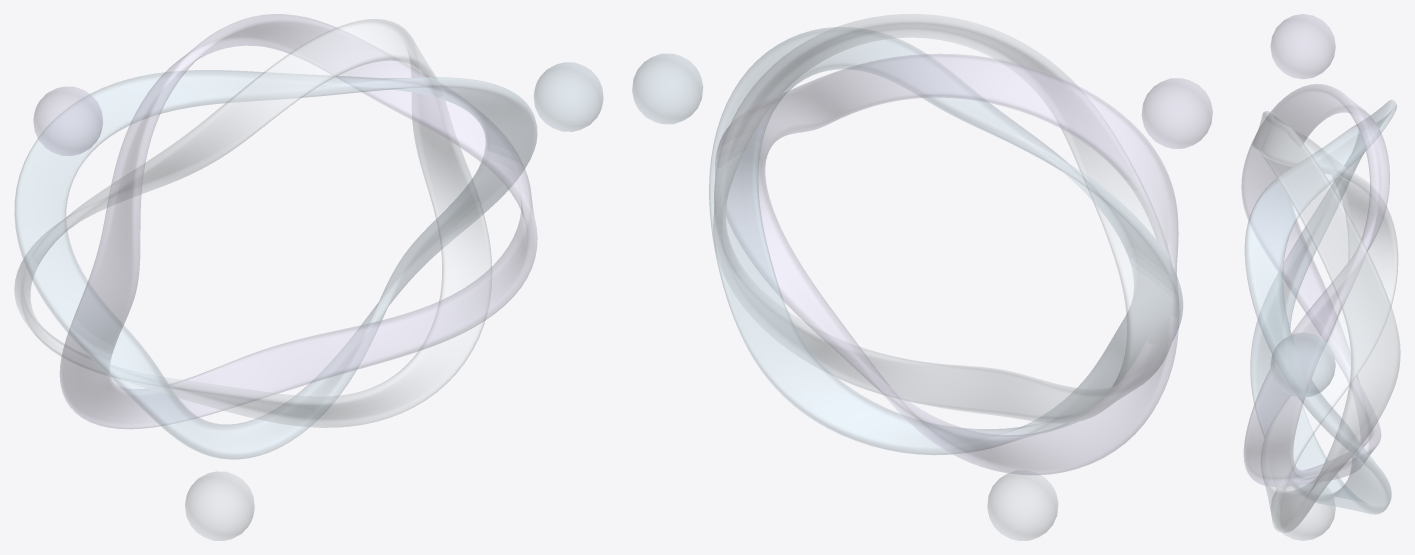
The model's file is spaceyew-home-kinetic.glb.
The picture shows the model from 3 angles, left to right: view 1: azimuth 30°, elevation 25°; view 2: azimuth 150°, elevation 25°; view 3: azimuth 270°, elevation 25°; orthographic projection. The views are drawn at different scales.
Parts seen in each view (by area): view 1: PrismArc_1, PrismArc_0, PrismArc_2, DiscoveryNode_0, DiscoveryNode_2, DiscoveryNode_1; view 2: PrismArc_0, PrismArc_1, PrismArc_2, DiscoveryNode_1, DiscoveryNode_2, DiscoveryNode_0; view 3: PrismArc_2, PrismArc_1, PrismArc_0, DiscoveryNode_1, DiscoveryNode_0, DiscoveryNode_2.
Part boxes in pixels (x1,y1,x2,y2): PrismArc_1: (59, 14, 537, 428); PrismArc_0: (14, 70, 537, 459); PrismArc_2: (14, 19, 491, 427); DiscoveryNode_0: (534, 62, 603, 131); DiscoveryNode_2: (185, 471, 254, 540); DiscoveryNode_1: (33, 87, 102, 155); PrismArc_0: (709, 27, 1182, 454); PrismArc_1: (715, 54, 1178, 475); PrismArc_2: (713, 14, 1176, 423); DiscoveryNode_1: (1142, 78, 1212, 148); DiscoveryNode_2: (987, 470, 1057, 540); DiscoveryNode_0: (632, 54, 702, 123); PrismArc_2: (1252, 111, 1400, 532); PrismArc_1: (1241, 84, 1389, 486); PrismArc_0: (1245, 100, 1396, 514); DiscoveryNode_1: (1270, 14, 1335, 78); DiscoveryNode_0: (1270, 332, 1335, 397); DiscoveryNode_2: (1271, 483, 1335, 540).
Bounding box in the file's own units: 4.05 × 3.35 × 1.07.
